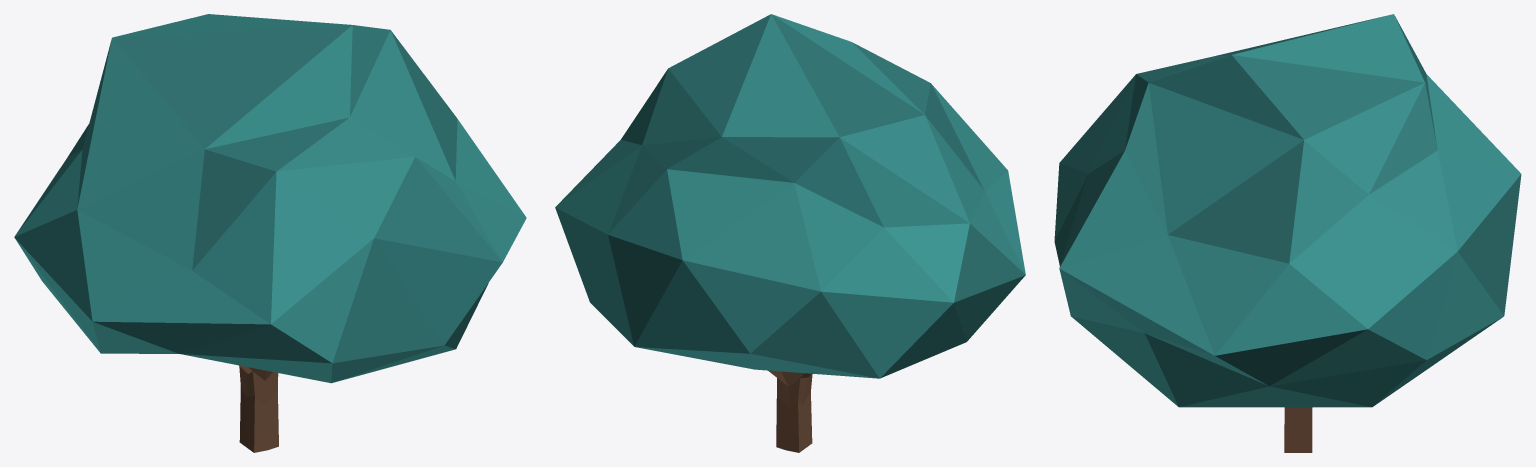
File: Tree_8_Blue.fbx
3 renders of one model, left to right at view 1: azimuth 30°, elevation 25°; view 2: azimuth 150°, elevation 25°; view 3: azimuth 270°, elevation 25°, orthographic. The views are drawn at different scales.
Visible parts, largest first — view 1: Tree_8_Blue_Part_1, Tree_8_Blue_Part_2; view 2: Tree_8_Blue_Part_1, Tree_8_Blue_Part_2; view 3: Tree_8_Blue_Part_1, Tree_8_Blue_Part_2.
Part boxes in pixels (left/top/right/bottom): Tree_8_Blue_Part_1: left=14, top=14, right=526, bottom=383; Tree_8_Blue_Part_2: left=239, top=365, right=278, bottom=452; Tree_8_Blue_Part_1: left=555, top=14, right=1025, bottom=378; Tree_8_Blue_Part_2: left=768, top=370, right=812, bottom=452; Tree_8_Blue_Part_1: left=1054, top=14, right=1521, bottom=407; Tree_8_Blue_Part_2: left=1284, top=407, right=1312, bottom=452.
Size of the model in its own units: 804 by 762 by 766.
